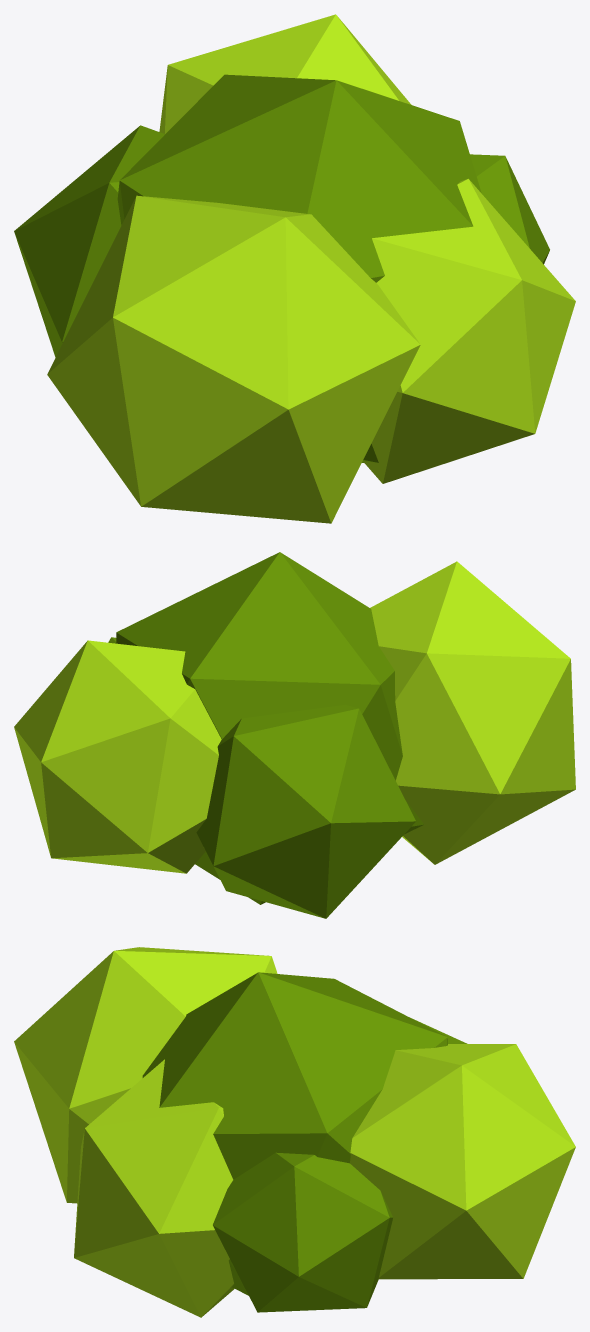
The model's file is bush3.fbx.
The picture shows the model from 3 angles, top to bottom: view 1: azimuth 30°, elevation 25°; view 2: azimuth 150°, elevation 25°; view 3: azimuth 270°, elevation 25°; orthographic projection. The views are drawn at different scales.
Visible parts, largest first — view 1: Bush3; view 2: Bush3; view 3: Bush3.
Boxes of the visible parts, x1,y1,x2,y2 form: Bush3: [14, 14, 575, 523]; Bush3: [14, 552, 575, 918]; Bush3: [14, 947, 575, 1317].
Bounding box in the file's own units: 1.36 × 0.9878 × 1.47.
